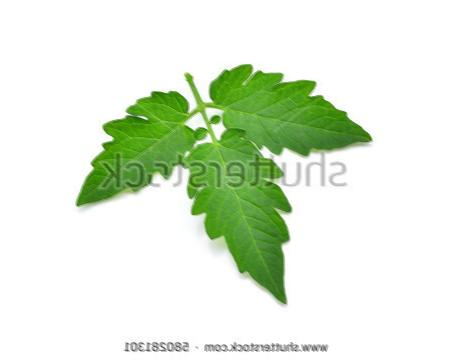Tomato leaf: (173, 118, 299, 316), (53, 58, 197, 222), (200, 48, 378, 172)
